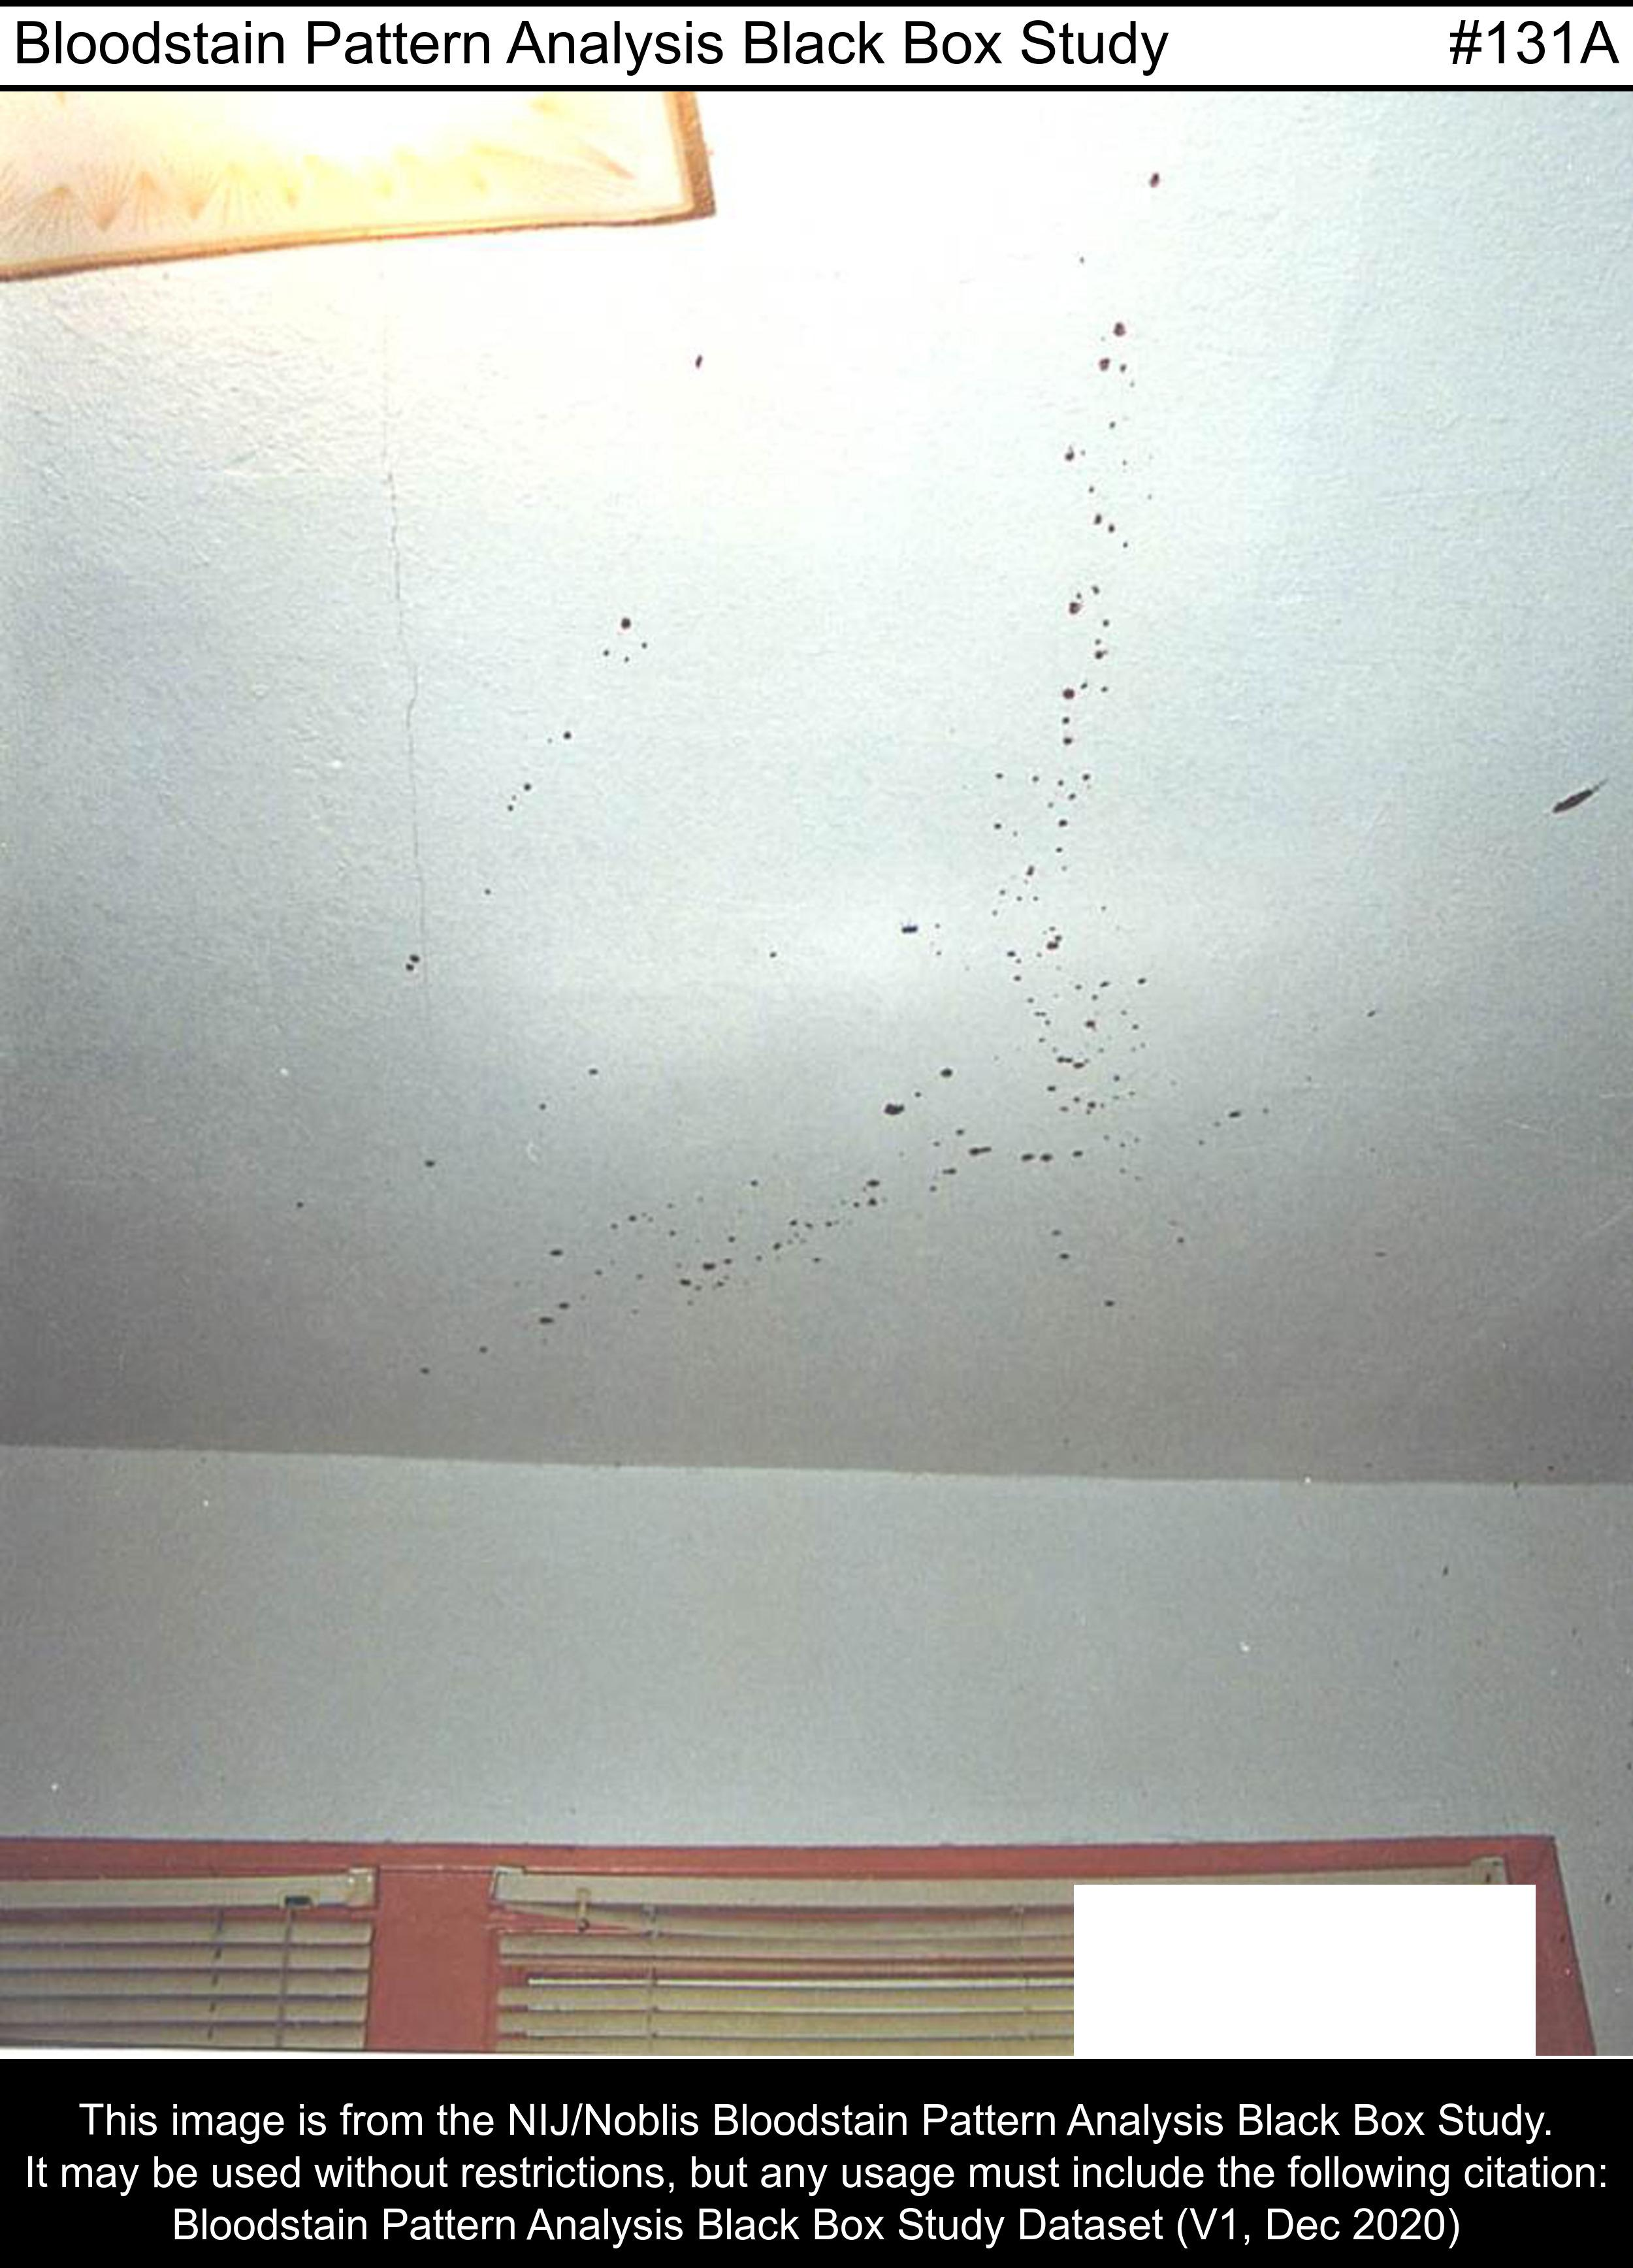Impact: (1025, 317, 1133, 1189)
